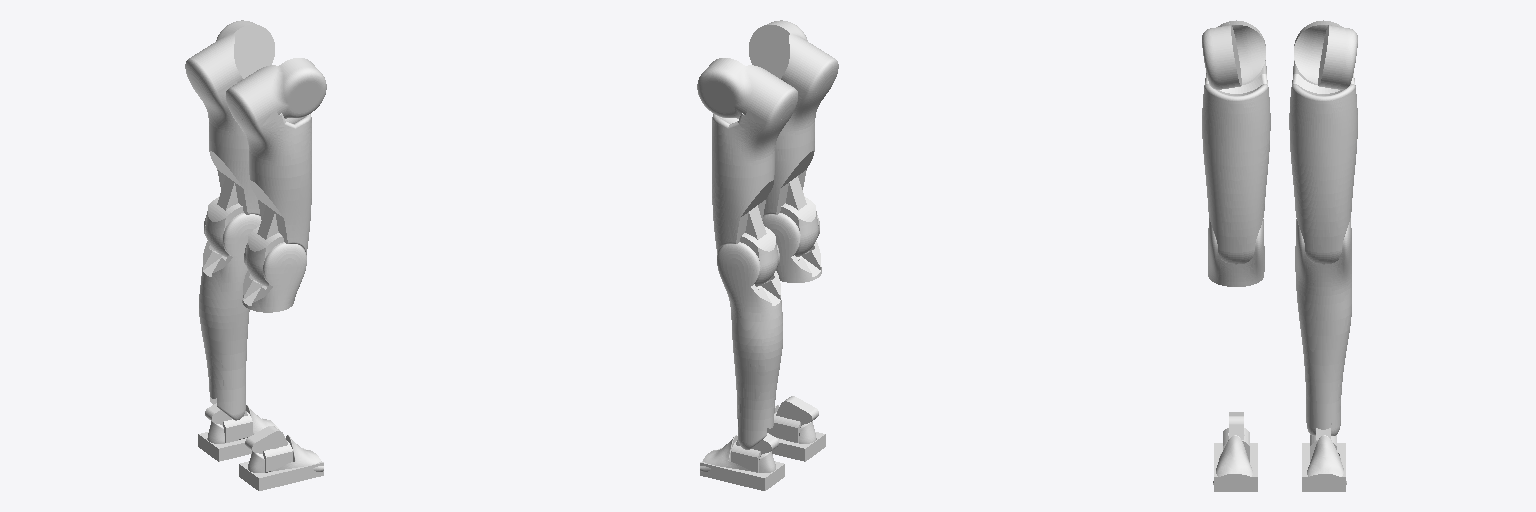
robot.urdf — lite_biped_debug:
<?xml version='1.0' encoding='utf-8'?>
<robot name="lite_biped_debug">
  <!-- GENERATED by lite_description.workflow from Onshape CAD. Do not edit by hand. Regenerate: lite-description-generate lite_biped_debug -->
  <link name="pelvis">
    <inertial>
      <origin xyz="0.0137049 6.97587e-07 0.0692011" rpy="0 0 0" />
      <mass value="2.1" />
      <inertia ixx="0.00987937" ixy="3.9803e-08" ixz="-0.000115563" iyy="0.00823366" iyz="-5.1965e-08" izz="0.00638151" />
    </inertial>
    <!-- Part pelvis_parts -->
    <collision>
      <origin xyz="0.00964 1e-05 0.09166" rpy="-1.5708 1.5708 0" />
      <geometry>
        <cylinder length="0.03903" radius="0.069" />
      </geometry>
    </collision>
    <collision>
      <origin xyz="0.02 -1e-05 -0" rpy="-1.5708 1.5708 0" />
      <geometry>
        <cylinder length="0.14449" radius="0.052" />
      </geometry>
    </collision>
    <visual>
      <origin xyz="0.0137049 6.97587e-07 0.0692011" rpy="0 -0 0" />
      <geometry>
        <mesh filename="../meshes/visual/pelvis_visual.stl" />
      </geometry>
      <material name="pelvis_parts_material">
        <color rgba="0.933333 0.933333 0.933333 1" />
      </material>
    </visual>
  </link>
  <!-- Frame imu (dummy link + fixed joint) -->
  <link name="imu">
    <origin xyz="0 0 0" rpy="0 -0 0" />
    <inertial>
      <origin xyz="0 0 0" rpy="0 0 0" />
      <mass value="1e-9" />
      <inertia ixx="0" ixy="0" ixz="0" iyy="0" iyz="0" izz="0" />
    </inertial>
  </link>
  <joint name="imu_frame" type="fixed">
    <origin xyz="0 0 0.08" rpy="0 -0 0" />
    <parent link="pelvis" />
    <child link="imu" />
    <axis xyz="0 0 0" />
  </joint>
  <!-- Link left_hip_pitch -->
  <link name="left_hip_pitch">
    <inertial>
      <origin xyz="-0.0114774 0.00418673 0.0187959" rpy="0 0 0" />
      <mass value="0.18" />
      <inertia ixx="0.000189549" ixy="1.56103e-05" ixz="-3.45388e-05" iyy="0.000226363" iyz="1.30141e-05" izz="0.000286537" />
    </inertial>
    <!-- Part left_hip_pitch_parts -->
    <visual>
      <origin xyz="-0.0114774 0.00418673 0.0187959" rpy="1.74533 0 -0" />
      <geometry>
        <mesh filename="../meshes/visual/left_hip_pitch_visual.stl" />
      </geometry>
      <material name="left_hip_pitch_parts_material">
        <color rgba="0.933333 0.933333 0.933333 1" />
      </material>
    </visual>
  </link>
  <!-- Link left_hip_roll -->
  <link name="left_hip_roll">
    <inertial>
      <origin xyz="-4.8952e-08 0.0525082 -0.0652484" rpy="0 0 0" />
      <mass value="0.93" />
      <inertia ixx="0.00263146" ixy="-5.134e-09" ixz="3.451e-09" iyy="0.00142387" iyz="-0.000651416" izz="0.00255491" />
    </inertial>
    <!-- Part left_hip_roll_parts -->
    <collision>
      <origin xyz="0 0.0248964 -0.0653033" rpy="3.14159 1.50098 1.5708" />
      <geometry>
        <cylinder length="0.08315" radius="0.051" />
      </geometry>
    </collision>
    <visual>
      <origin xyz="-4.8952e-08 0.0525082 -0.0652484" rpy="0 -1.22173 1.5708" />
      <geometry>
        <mesh filename="../meshes/visual/left_hip_roll_visual.stl" />
      </geometry>
      <material name="left_hip_roll_parts_material">
        <color rgba="0.933333 0.933333 0.933333 1" />
      </material>
    </visual>
  </link>
  <!-- Link left_hip_yaw -->
  <link name="left_hip_yaw">
    <inertial>
      <origin xyz="0.00130442 -2.2783e-05 -0.237299" rpy="0 0 0" />
      <mass value="1.54" />
      <inertia ixx="0.00856423" ixy="8.05553e-07" ixz="-0.000337563" iyy="0.00874707" iyz="1.62929e-07" izz="0.00192866" />
    </inertial>
    <!-- Part left_hip_yaw_parts -->
    <collision>
      <origin xyz="-0.005 -0 -0.2575" rpy="0 0.0689405 0" />
      <geometry>
        <cylinder length="0.14534" radius="0.055" />
      </geometry>
    </collision>
    <visual>
      <origin xyz="0.00130442 -2.2783e-05 -0.237299" rpy="-0 0 -0" />
      <geometry>
        <mesh filename="../meshes/visual/left_hip_yaw_visual.stl" />
      </geometry>
      <material name="left_hip_yaw_parts_material">
        <color rgba="0.933333 0.933333 0.933333 1" />
      </material>
    </visual>
  </link>
  <!-- Link left_knee_pitch -->
  <link name="left_knee_pitch">
    <inertial>
      <origin xyz="-0.00486713 0.0372163 -0.000224083" rpy="0 0 0" />
      <mass value="0.23" />
      <inertia ixx="0.00048246" ixy="3.51526e-05" ixz="-1.20098e-07" iyy="0.000330466" iyz="5.6617e-07" izz="0.00037756" />
    </inertial>
    <!-- Part left_knee_pitch_parts -->
    <collision>
      <origin xyz="-0.015 0.1519 0" rpy="-1.5708 -1.5708 0" />
      <geometry>
        <cylinder length="0.30379" radius="0.044" />
      </geometry>
    </collision>
    <visual>
      <origin xyz="-0.00486713 0.0372163 -0.000224083" rpy="1.5708 0 0" />
      <geometry>
        <mesh filename="../meshes/visual/left_knee_pitch_visual.stl" />
      </geometry>
      <material name="left_knee_pitch_parts_material">
        <color rgba="0.933333 0.933333 0.933333 1" />
      </material>
    </visual>
  </link>
  <!-- Link left_ankle_yaw -->
  <link name="left_ankle_yaw">
    <inertial>
      <origin xyz="-0.00304992 0.00150525 -0.18535" rpy="0 0 0" />
      <mass value="1.03" />
      <inertia ixx="0.00548966" ixy="2.18778e-06" ixz="0.000114943" iyy="0.00552969" iyz="-1.87643e-05" izz="0.000829513" />
    </inertial>
    <!-- Part left_ankle_yaw_parts -->
    <visual>
      <origin xyz="-0.00304992 0.00150525 -0.18535" rpy="-0 0 -0" />
      <geometry>
        <mesh filename="../meshes/visual/left_ankle_yaw_visual.stl" />
      </geometry>
      <material name="left_ankle_yaw_parts_material">
        <color rgba="0.933333 0.933333 0.933333 1" />
      </material>
    </visual>
  </link>
  <!-- Link left_ankle_pitch -->
  <link name="left_ankle_pitch">
    <inertial>
      <origin xyz="-0.00384209 0.0297371 3.1356e-08" rpy="0 0 0" />
      <mass value="0.34" />
      <inertia ixx="0.000180143" ixy="-3.10163e-05" ixz="-7.8e-11" iyy="0.00014325" iyz="2.66e-10" izz="0.000245142" />
    </inertial>
    <!-- Part left_ankle_pitch_parts -->
    <visual>
      <origin xyz="-0.00384209 0.0297371 3.1356e-08" rpy="1.5708 -0 -0" />
      <geometry>
        <mesh filename="../meshes/visual/left_ankle_pitch_visual.stl" />
      </geometry>
      <material name="left_ankle_pitch_parts_material">
        <color rgba="0.933333 0.933333 0.933333 1" />
      </material>
    </visual>
  </link>
  <!-- Link left_foot -->
  <link name="left_foot">
    <inertial>
      <origin xyz="-0.000733289 0.0228285 0.0197452" rpy="0 0 0" />
      <mass value="0.309507" />
      <inertia ixx="0.000513563" ixy="-3.54294e-06" ixz="6.31014e-06" iyy="0.000570924" iyz="1.33689e-05" izz="0.000170529" />
    </inertial>
    <!-- Part left_foot_parts -->
    <collision>
      <origin xyz="-0 0.03 0.015" rpy="1.5708 0 0" />
      <geometry>
        <box size="0.07 0.13 0.02" />
      </geometry>
    </collision>
    <visual>
      <origin xyz="-0.000733289 0.0228285 0.0197452" rpy="1.5708 -1.5708 0" />
      <geometry>
        <mesh filename="../meshes/visual/left_foot_visual.stl" />
      </geometry>
      <material name="left_foot_parts_material">
        <color rgba="0.933333 0.933333 0.933333 1" />
      </material>
    </visual>
  </link>
  <!-- Joint from left_ankle_pitch to left_foot -->
  <joint name="left_ankle_roll" type="revolute">
    <origin xyz="0 0.04 -0" rpy="0 1.5708 0" />
    <parent link="left_ankle_pitch" />
    <child link="left_foot" />
    <axis xyz="0 0 1" />
    <limit effort="5.5" velocity="100" lower="-0.349066" upper="0.349066" />
    <joint_properties friction="0.1" />
  </joint>
  <!-- Joint from left_ankle_yaw to left_ankle_pitch -->
  <joint name="left_ankle_pitch" type="revolute">
    <origin xyz="0.01 -0 -0.34" rpy="-1.5708 0 -0" />
    <parent link="left_ankle_yaw" />
    <child link="left_ankle_pitch" />
    <axis xyz="0 0 1" />
    <limit effort="14.0" velocity="100" lower="-0.523599" upper="0.872665" />
    <joint_properties friction="0.1" />
  </joint>
  <!-- Joint from left_knee_pitch to left_ankle_yaw -->
  <joint name="left_ankle_yaw" type="revolute">
    <origin xyz="-0.015 0 0" rpy="1.5708 0 -0" />
    <parent link="left_knee_pitch" />
    <child link="left_ankle_yaw" />
    <axis xyz="0 0 1" />
    <limit effort="14.0" velocity="100" lower="-1.5708" upper="1.5708" />
    <joint_properties friction="0.1" />
  </joint>
  <!-- Joint from left_hip_yaw to left_knee_pitch -->
  <joint name="left_knee_pitch" type="revolute">
    <origin xyz="-0.01 0 -0.33" rpy="-1.5708 0 0" />
    <parent link="left_hip_yaw" />
    <child link="left_knee_pitch" />
    <axis xyz="0 0 1" />
    <limit effort="36.0" velocity="100" lower="0" upper="2.35619" />
    <joint_properties friction="0.1" />
  </joint>
  <!-- Joint from left_hip_roll to left_hip_yaw -->
  <joint name="left_hip_yaw" type="revolute">
    <origin xyz="0 -0.0068404 -0.0187939" rpy="0 -1.22173 1.5708" />
    <parent link="left_hip_roll" />
    <child link="left_hip_yaw" />
    <axis xyz="0 0 1" />
    <limit effort="17.0" velocity="100" lower="-1.5708" upper="1.5708" />
    <joint_properties friction="0.1" />
  </joint>
  <!-- Joint from left_hip_pitch to left_hip_roll -->
  <joint name="left_hip_roll" type="revolute">
    <origin xyz="-0 0 -0" rpy="1.91986 1.39626 1.5708" />
    <parent link="left_hip_pitch" />
    <child link="left_hip_roll" />
    <axis xyz="0 0 1" />
    <limit effort="36.0" velocity="100" lower="-0.349066" upper="1.5708" />
    <joint_properties friction="0.1" />
  </joint>
  <!-- Joint from pelvis to left_hip_pitch -->
  <joint name="left_hip_pitch" type="revolute">
    <origin xyz="0.02 0.07 0" rpy="-1.74533 0 0" />
    <parent link="pelvis" />
    <child link="left_hip_pitch" />
    <axis xyz="0 0 1" />
    <limit effort="36.0" velocity="100" lower="-2.35619" upper="0.785398" />
    <joint_properties friction="0.1" />
  </joint>
  <!-- Link right_hip_pitch -->
  <link name="right_hip_pitch">
    <inertial>
      <origin xyz="-0.0114771 0.00418737 -0.0187964" rpy="0 0 0" />
      <mass value="0.18" />
      <inertia ixx="0.000189546" ixy="1.56176e-05" ixz="3.45408e-05" iyy="0.00022637" iyz="-1.30122e-05" izz="0.000286535" />
    </inertial>
    <!-- Part right_hip_pitch_parts -->
    <visual>
      <origin xyz="-0.0114771 0.00418737 -0.0187964" rpy="1.39626 0 -0" />
      <geometry>
        <mesh filename="../meshes/visual/right_hip_pitch_visual.stl" />
      </geometry>
      <material name="right_hip_pitch_parts_material">
        <color rgba="0.933333 0.933333 0.933333 1" />
      </material>
    </visual>
  </link>
  <!-- Link right_hip_roll -->
  <link name="right_hip_roll">
    <inertial>
      <origin xyz="2.6715e-08 0.0525085 -0.0652483" rpy="0 0 0" />
      <mass value="0.93" />
      <inertia ixx="0.00263147" ixy="2.71e-10" ixz="6.079e-09" iyy="0.00142387" iyz="-0.000651423" izz="0.00255493" />
    </inertial>
    <!-- Part right_hip_roll_parts -->
    <collision>
      <origin xyz="1.40064e-07 0.0248965 -0.0653029" rpy="-3.14159 1.50098 1.5708" />
      <geometry>
        <cylinder length="0.08315" radius="0.051" />
      </geometry>
    </collision>
    <visual>
      <origin xyz="2.6715e-08 0.0525085 -0.0652483" rpy="0 -1.22173 1.5708" />
      <geometry>
        <mesh filename="../meshes/visual/right_hip_roll_visual.stl" />
      </geometry>
      <material name="right_hip_roll_parts_material">
        <color rgba="0.933333 0.933333 0.933333 1" />
      </material>
    </visual>
  </link>
  <!-- Link right_hip_yaw -->
  <link name="right_hip_yaw">
    <inertial>
      <origin xyz="0.00130421 2.35733e-05 -0.237299" rpy="0 0 0" />
      <mass value="1.54" />
      <inertia ixx="0.00856421" ixy="-7.98006e-07" ixz="-0.000337552" iyy="0.00874705" iyz="-2.23692e-07" izz="0.00192867" />
    </inertial>
    <!-- Part right_hip_yaw_parts -->
    <collision>
      <origin xyz="-0.005 -0 -0.2575" rpy="-0 0.0689405 -0" />
      <geometry>
        <cylinder length="0.14534" radius="0.055" />
      </geometry>
    </collision>
    <visual>
      <origin xyz="0.00130421 2.35733e-05 -0.237299" rpy="0 0 -0" />
      <geometry>
        <mesh filename="../meshes/visual/right_hip_yaw_visual.stl" />
      </geometry>
      <material name="right_hip_yaw_parts_material">
        <color rgba="0.933333 0.933333 0.933333 1" />
      </material>
    </visual>
  </link>
  <!-- Link right_knee_pitch -->
  <link name="right_knee_pitch">
    <inertial>
      <origin xyz="-0.0048642 0.0372186 0.000224747" rpy="0 0 0" />
      <mass value="0.23" />
      <inertia ixx="0.000482479" ixy="3.5171e-05" ixz="1.13103e-07" iyy="0.000330463" iyz="-5.54061e-07" izz="0.000377561" />
    </inertial>
    <!-- Part right_knee_pitch_parts -->
    <collision>
      <origin xyz="-0.015 0.1519 0" rpy="-1.5708 -1.5708 0" />
      <geometry>
        <cylinder length="0.30379" radius="0.044" />
      </geometry>
    </collision>
    <visual>
      <origin xyz="-0.0048642 0.0372186 0.000224747" rpy="1.5708 0 0" />
      <geometry>
        <mesh filename="../meshes/visual/right_knee_pitch_visual.stl" />
      </geometry>
      <material name="right_knee_pitch_parts_material">
        <color rgba="0.933333 0.933333 0.933333 1" />
      </material>
    </visual>
  </link>
  <!-- Link right_ankle_yaw -->
  <link name="right_ankle_yaw">
    <inertial>
      <origin xyz="-0.00304908 -0.0015054 -0.185348" rpy="0 0 0" />
      <mass value="1.03" />
      <inertia ixx="0.00548969" ixy="-2.19478e-06" ixz="0.000114953" iyy="0.00552968" iyz="1.87697e-05" izz="0.00082951" />
    </inertial>
    <!-- Part right_ankle_yaw_parts -->
    <visual>
      <origin xyz="-0.00304908 -0.0015054 -0.185348" rpy="0 0 -0" />
      <geometry>
        <mesh filename="../meshes/visual/right_ankle_yaw_visual.stl" />
      </geometry>
      <material name="right_ankle_yaw_parts_material">
        <color rgba="0.933333 0.933333 0.933333 1" />
      </material>
    </visual>
  </link>
  <!-- Link right_ankle_pitch -->
  <link name="right_ankle_pitch">
    <inertial>
      <origin xyz="-0.00384209 0.0297371 3.1396e-08" rpy="0 0 0" />
      <mass value="0.34" />
      <inertia ixx="0.000180143" ixy="-3.10163e-05" ixz="-7.8e-11" iyy="0.00014325" iyz="2.66e-10" izz="0.000245142" />
    </inertial>
    <!-- Part right_ankle_pitch_parts -->
    <visual>
      <origin xyz="-0.00384209 0.0297371 3.1396e-08" rpy="1.5708 0 0" />
      <geometry>
        <mesh filename="../meshes/visual/right_ankle_pitch_visual.stl" />
      </geometry>
      <material name="right_ankle_pitch_parts_material">
        <color rgba="0.933333 0.933333 0.933333 1" />
      </material>
    </visual>
  </link>
  <!-- Link right_foot -->
  <link name="right_foot">
    <inertial>
      <origin xyz="0.000733292 0.0228286 0.0197451" rpy="0 0 0" />
      <mass value="0.309507" />
      <inertia ixx="0.000513563" ixy="3.54295e-06" ixz="-6.31016e-06" iyy="0.000570924" iyz="1.33689e-05" izz="0.000170529" />
    </inertial>
    <!-- Part right_foot_parts -->
    <collision>
      <origin xyz="0 0.03 0.015" rpy="1.5708 0 -0" />
      <geometry>
        <box size="0.07 0.13 0.02" />
      </geometry>
    </collision>
    <visual>
      <origin xyz="0.000733292 0.0228286 0.0197451" rpy="1.5708 -1.5708 0" />
      <geometry>
        <mesh filename="../meshes/visual/right_foot_visual.stl" />
      </geometry>
      <material name="right_foot_parts_material">
        <color rgba="0.933333 0.933333 0.933333 1" />
      </material>
    </visual>
  </link>
  <!-- Joint from right_ankle_pitch to right_foot -->
  <joint name="right_ankle_roll" type="revolute">
    <origin xyz="0 0.04 0" rpy="0 1.5708 0" />
    <parent link="right_ankle_pitch" />
    <child link="right_foot" />
    <axis xyz="0 0 1" />
    <limit effort="5.5" velocity="100" lower="-0.349066" upper="0.349066" />
    <joint_properties friction="0.1" />
  </joint>
  <!-- Joint from right_ankle_yaw to right_ankle_pitch -->
  <joint name="right_ankle_pitch" type="revolute">
    <origin xyz="0.01 0 -0.34" rpy="-1.5708 -0 -0" />
    <parent link="right_ankle_yaw" />
    <child link="right_ankle_pitch" />
    <axis xyz="0 0 1" />
    <limit effort="14.0" velocity="100" lower="-0.523599" upper="0.872665" />
    <joint_properties friction="0.1" />
  </joint>
  <!-- Joint from right_knee_pitch to right_ankle_yaw -->
  <joint name="right_ankle_yaw" type="revolute">
    <origin xyz="-0.015 0 0" rpy="1.5708 -0 -0" />
    <parent link="right_knee_pitch" />
    <child link="right_ankle_yaw" />
    <axis xyz="0 0 1" />
    <limit effort="14.0" velocity="100" lower="-1.5708" upper="1.5708" />
    <joint_properties friction="0.1" />
  </joint>
  <!-- Joint from right_hip_yaw to right_knee_pitch -->
  <joint name="right_knee_pitch" type="revolute">
    <origin xyz="-0.01 -0 -0.33" rpy="-1.5708 0 0" />
    <parent link="right_hip_yaw" />
    <child link="right_knee_pitch" />
    <axis xyz="0 0 1" />
    <limit effort="36.0" velocity="100" lower="0" upper="2.35619" />
    <joint_properties friction="0.1" />
  </joint>
  <!-- Joint from right_hip_roll to right_hip_yaw -->
  <joint name="right_hip_yaw" type="revolute">
    <origin xyz="-0 -0.0068404 -0.0187939" rpy="-0 -1.22173 1.5708" />
    <parent link="right_hip_roll" />
    <child link="right_hip_yaw" />
    <axis xyz="0 0 1" />
    <limit effort="17.0" velocity="100" lower="-1.5708" upper="1.5708" />
    <joint_properties friction="0.1" />
  </joint>
  <!-- Joint from right_hip_pitch to right_hip_roll -->
  <joint name="right_hip_roll" type="revolute">
    <origin xyz="0 -0 -0" rpy="-1.22173 1.39626 -1.5708" />
    <parent link="right_hip_pitch" />
    <child link="right_hip_roll" />
    <axis xyz="0 0 1" />
    <limit effort="36.0" velocity="100" lower="-1.5708" upper="0.349066" />
    <joint_properties friction="0.1" />
  </joint>
  <!-- Joint from pelvis to right_hip_pitch -->
  <joint name="right_hip_pitch" type="revolute">
    <origin xyz="0.02 -0.07 -0" rpy="-1.39626 -0 0" />
    <parent link="pelvis" />
    <child link="right_hip_pitch" />
    <axis xyz="0 0 1" />
    <limit effort="36.0" velocity="100" lower="-2.35619" upper="0.785398" />
    <joint_properties friction="0.1" />
  </joint>
</robot>

--- Facts derived from the render (not from the file) ---
Views: 3 orthographic renders of the robot side by side, from view 1: azimuth 30°, elevation 25°; view 2: azimuth 150°, elevation 25°; view 3: azimuth 270°, elevation 25°.
Robot: lite_biped_debug — 16 links, 15 joints (14 revolute, 1 fixed); root link pelvis; default pose: all joints at 0.
Visible links, largest first — view 1: left_ankle_yaw, right_hip_yaw, right_hip_roll, left_hip_yaw, right_knee_pitch, right_hip_pitch, left_hip_roll, left_hip_pitch, left_knee_pitch, right_foot, left_foot, right_ankle_pitch (+1 smaller); view 2: left_ankle_yaw, left_hip_yaw, left_hip_roll, right_hip_yaw, left_knee_pitch, left_hip_pitch, right_hip_roll, right_hip_pitch, right_knee_pitch, left_foot, right_ankle_pitch, right_foot (+1 smaller); view 3: right_hip_yaw, left_hip_yaw, left_ankle_yaw, left_hip_roll, right_hip_roll, left_hip_pitch, right_hip_pitch, left_foot, right_foot, left_knee_pitch, right_knee_pitch, right_ankle_pitch.
Boxes of the visible links, x1,y1,x2,y2 form: left_ankle_yaw: (199, 274, 249, 420); right_hip_yaw: (246, 155, 311, 286); right_hip_roll: (226, 76, 311, 165); left_hip_yaw: (205, 126, 260, 256); right_knee_pitch: (242, 242, 306, 312); right_hip_pitch: (249, 58, 326, 118); left_hip_roll: (185, 47, 244, 135); left_hip_pitch: (208, 20, 274, 82); left_knee_pitch: (202, 213, 261, 282); right_foot: (239, 435, 323, 490); left_foot: (198, 405, 279, 461); right_ankle_pitch: (245, 426, 292, 472); left_ankle_yaw: (730, 303, 782, 449); left_hip_yaw: (712, 155, 777, 286); left_hip_roll: (712, 76, 797, 165); right_hip_yaw: (763, 126, 818, 256); left_knee_pitch: (717, 242, 781, 312); left_hip_pitch: (697, 58, 774, 118); right_hip_roll: (779, 47, 838, 135); right_hip_pitch: (749, 20, 815, 82); right_knee_pitch: (762, 213, 821, 282); left_foot: (700, 435, 784, 490); right_ankle_pitch: (771, 396, 818, 442); right_foot: (770, 405, 825, 461); right_hip_yaw: (1202, 125, 1270, 264); left_hip_yaw: (1289, 125, 1357, 264); left_ankle_yaw: (1296, 277, 1351, 435); left_hip_roll: (1289, 20, 1357, 137); right_hip_roll: (1202, 20, 1270, 137); left_hip_pitch: (1294, 23, 1357, 89); right_hip_pitch: (1202, 23, 1265, 89); left_foot: (1302, 435, 1346, 491); right_foot: (1213, 435, 1257, 491); left_knee_pitch: (1295, 218, 1351, 286); right_knee_pitch: (1208, 218, 1264, 286); right_ankle_pitch: (1223, 412, 1249, 461).
Size in the robot's own frame: 0.1669 by 0.2504 by 0.7995 metres.
Meshes: 15 distinct files referenced, 13 mesh visuals loaded (13 binary STL); not drawn: 2 (reference not matched to a file when rendering).
